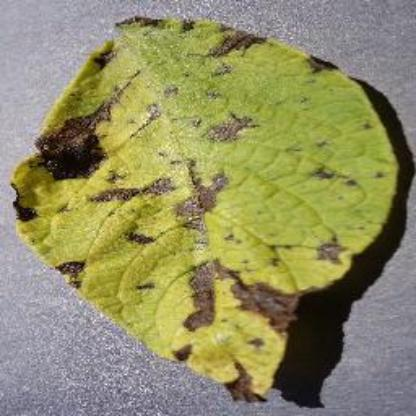Early-Blight: (7, 5, 415, 408)
